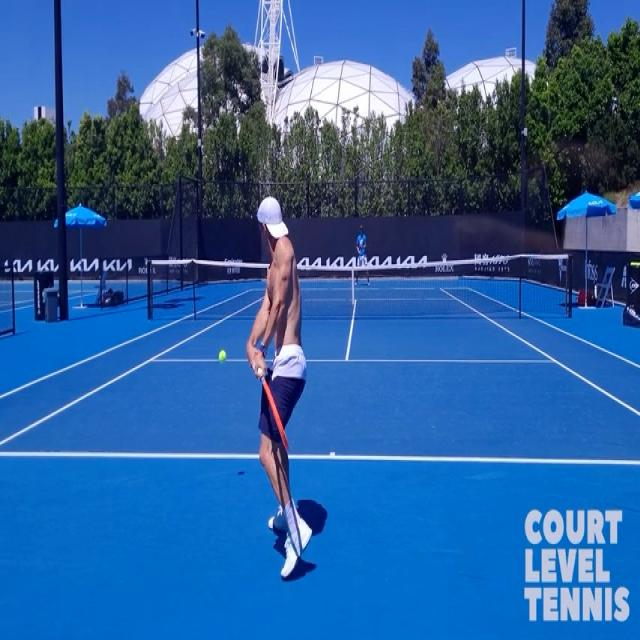backhand-stroke: (249, 198, 314, 582)
